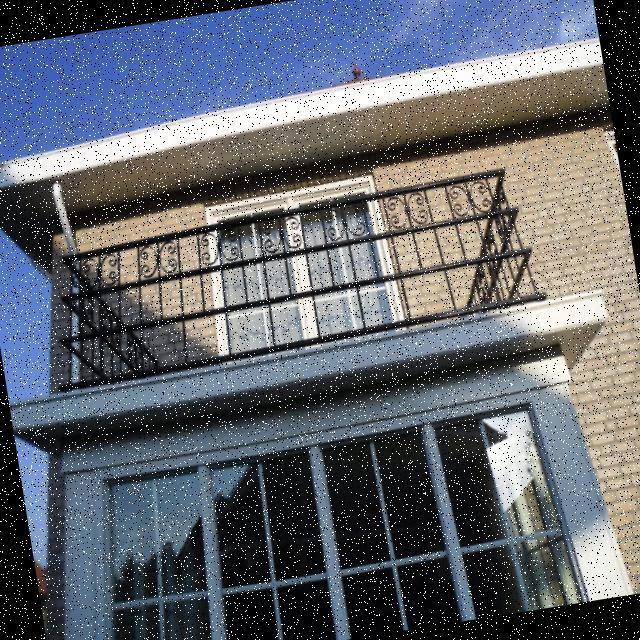fence line: (52, 161, 539, 400)
